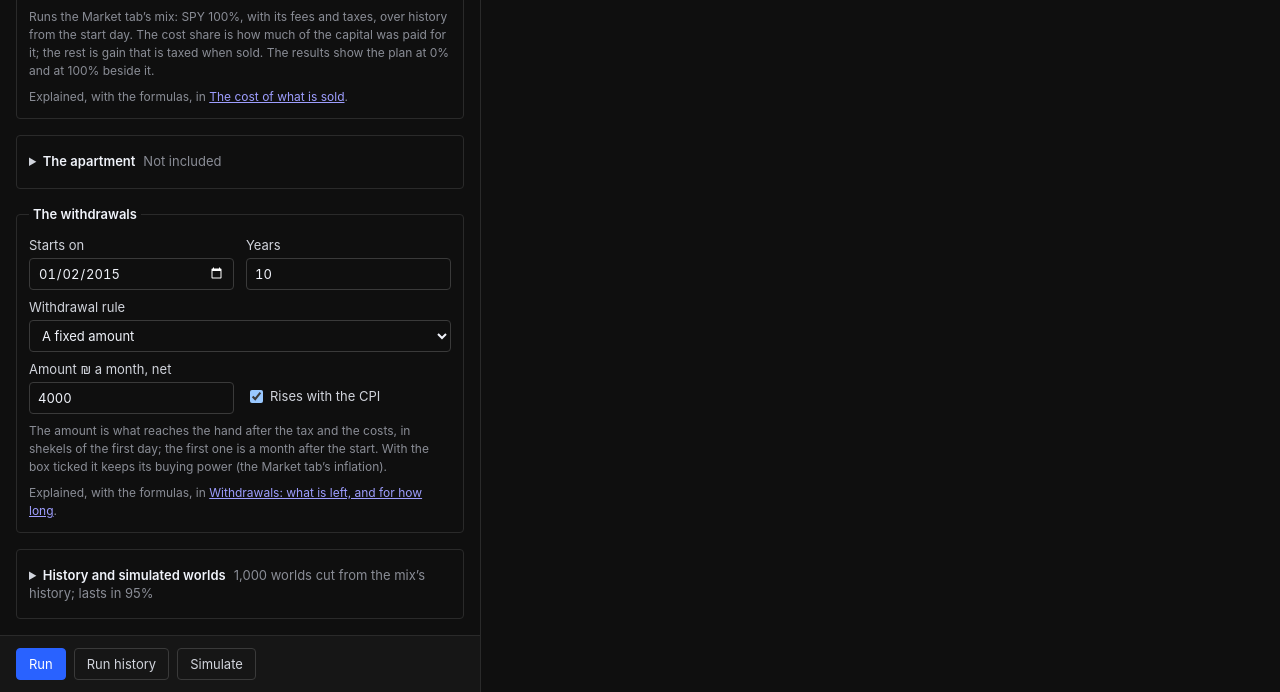
Scenario: PlannerWithdraw › runs a fixed amount and leads with when the money ends
(page scrolled)
Check: the text "Runs the Market tab’s mix: SPY 100%" is shown, box 29,9 -> 447,42
Click the button "Run" at (41, 664), box 16,648 -> 66,680
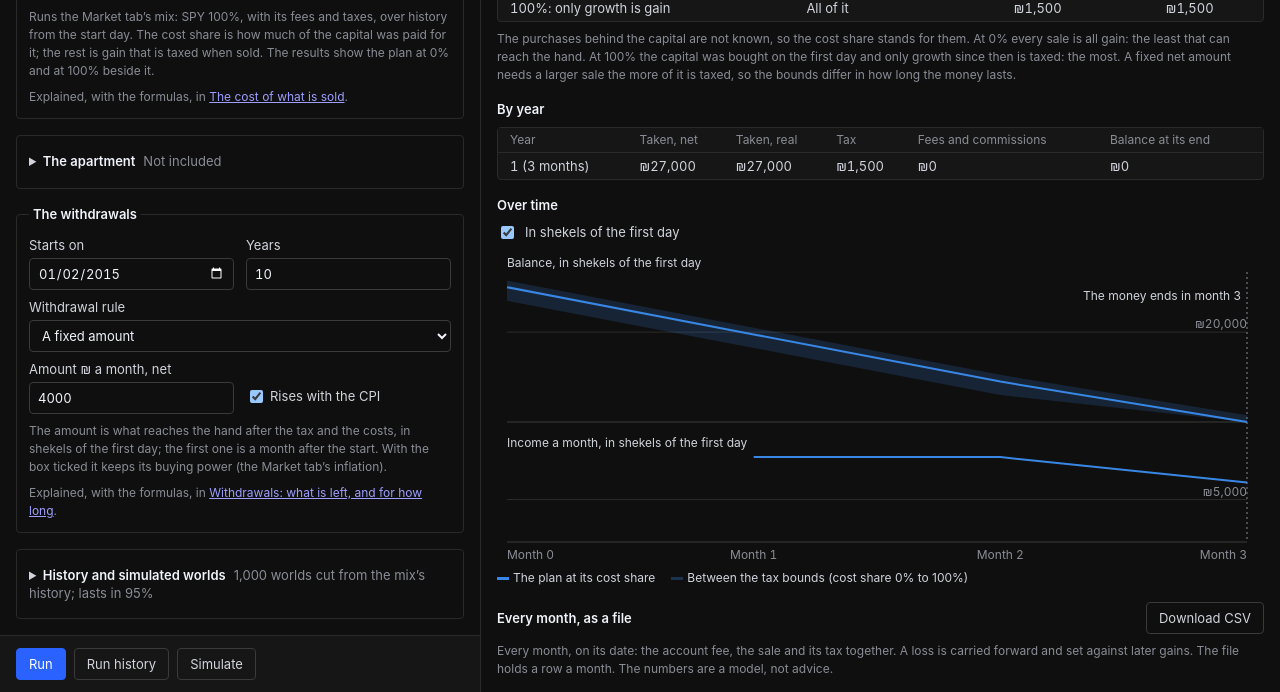
Check: the button with aria-label "Download CSV: withdrawals" is shown, box 1146,602 -> 1264,634
Check: the picture named "Balance and monthly income" is shown, box 497,254 -> 1257,566
